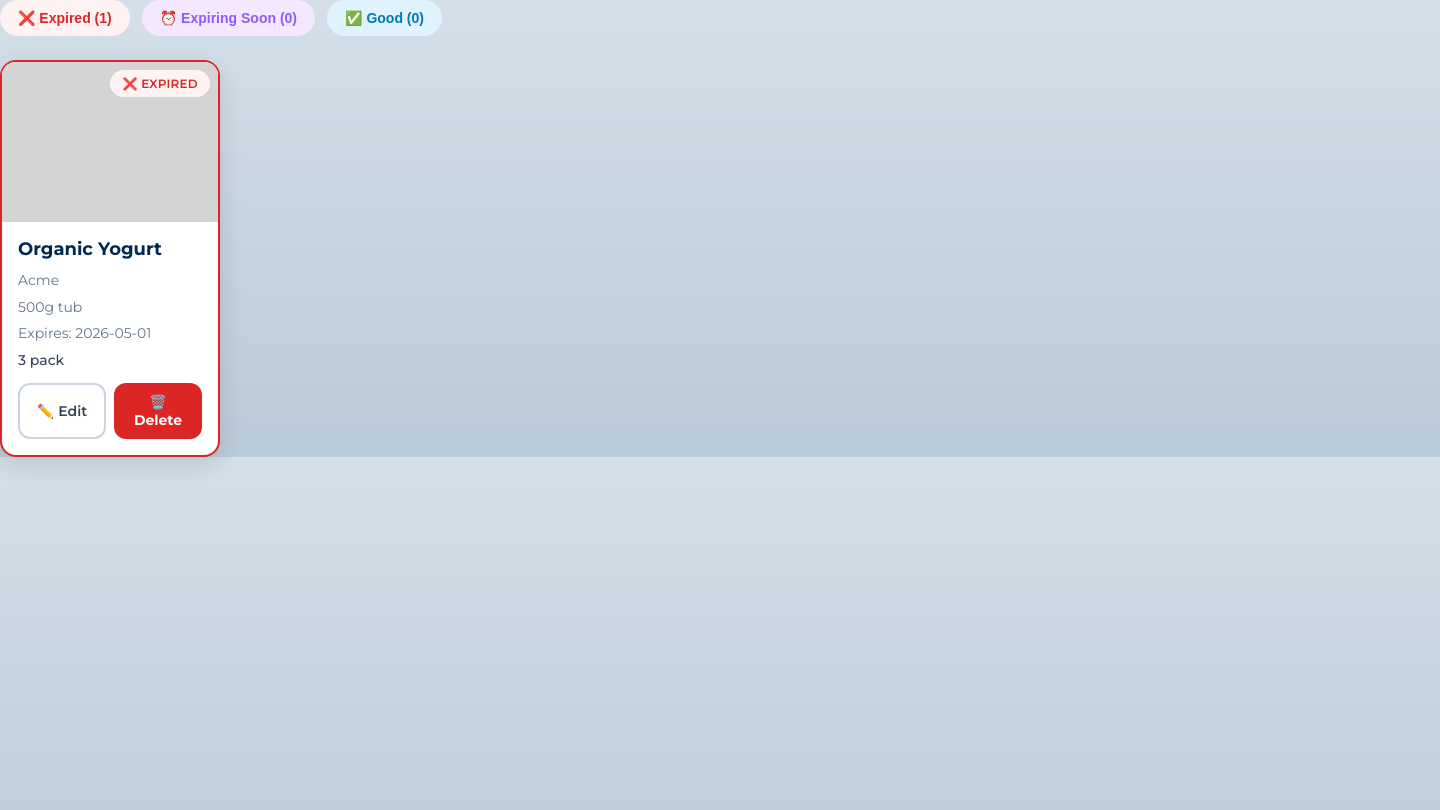
InventoryDashboard success feedback and image preservation › preserves the product image after a successful edit
The image size is (1440, 810).
Expected: the element with test id "inventory-grid" is shown, top-left (0, 60), bottom-right (220, 457)
Click the button with test id "edit-product-btn" at (62, 411), box top-left (18, 383), bottom-right (106, 439)
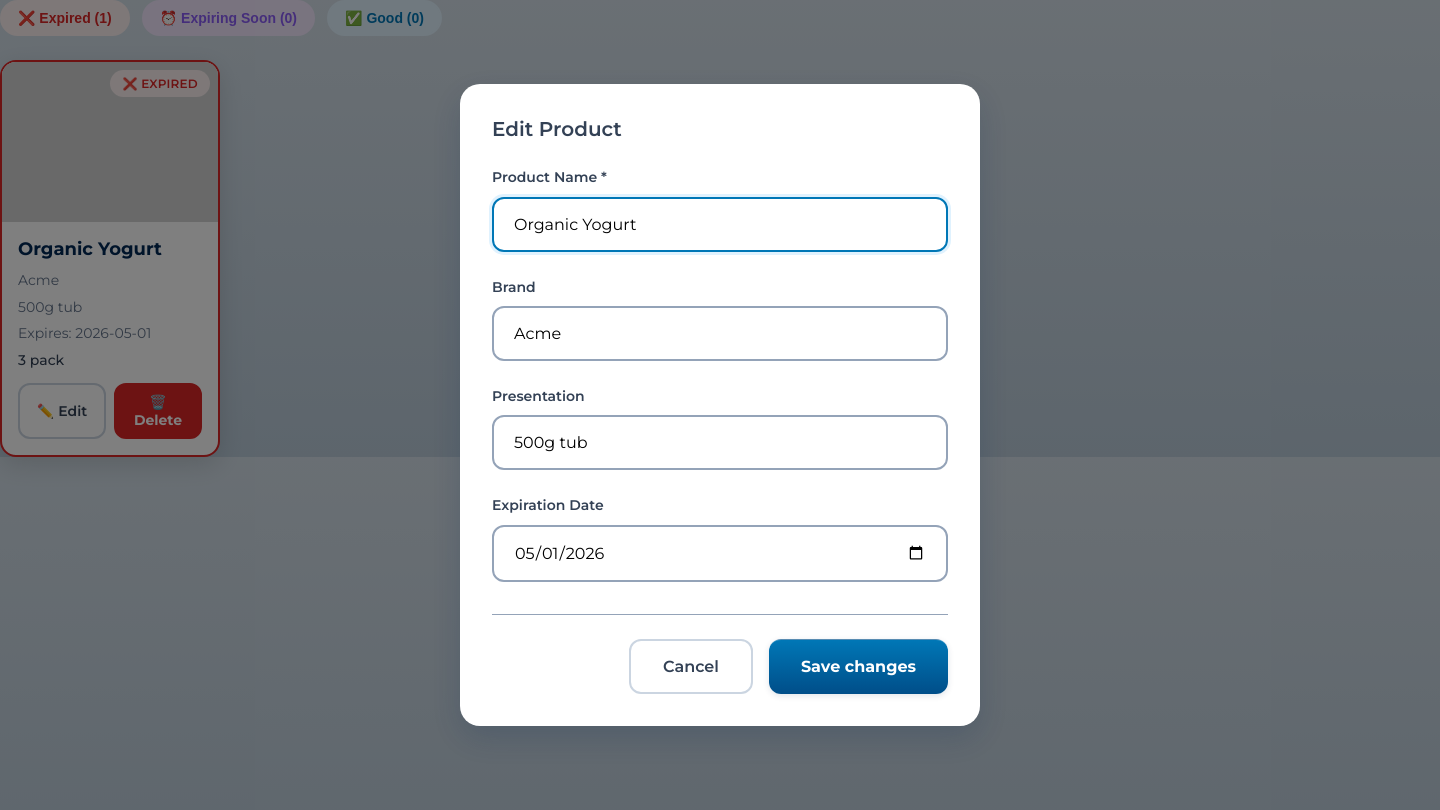
Now the form with test id "edit-form" is shown
Submit the form with test id "edit-form", box top-left (492, 166), bottom-right (948, 694)
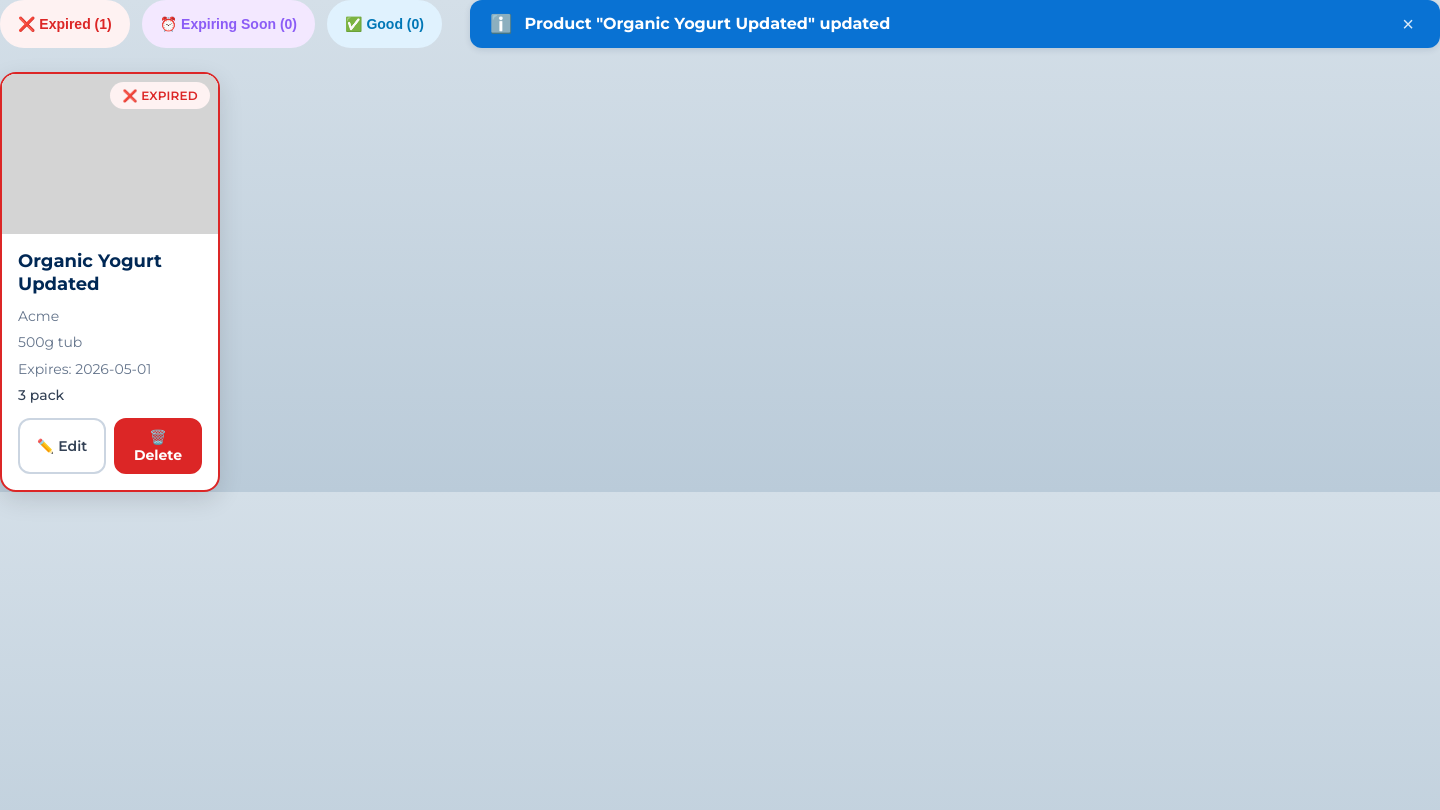
Now the heading "Organic Yogurt Updated" is shown, box top-left (18, 250), bottom-right (162, 295)
